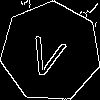V: (25, 27, 70, 80)
